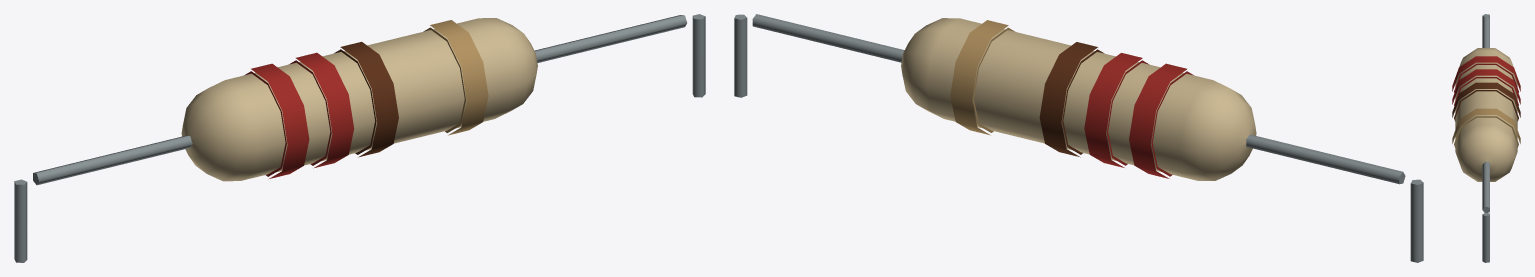
File: resistor.glb
The picture shows the model from 3 angles, left to right: view 1: azimuth 30°, elevation 25°; view 2: azimuth 150°, elevation 25°; view 3: azimuth 270°, elevation 25°; orthographic projection. The views are drawn at different scales.
Visible parts, largest first — view 1: resistor_malha; view 2: resistor_malha; view 3: resistor_malha.
Boxes of the visible parts, box(x1,y1,x2,y2) form: resistor_malha: box(14, 14, 705, 262); resistor_malha: box(734, 14, 1423, 262); resistor_malha: box(1452, 14, 1520, 262).
Size of the model in its own units: 0.4618 by 0.0813 by 0.0658.
